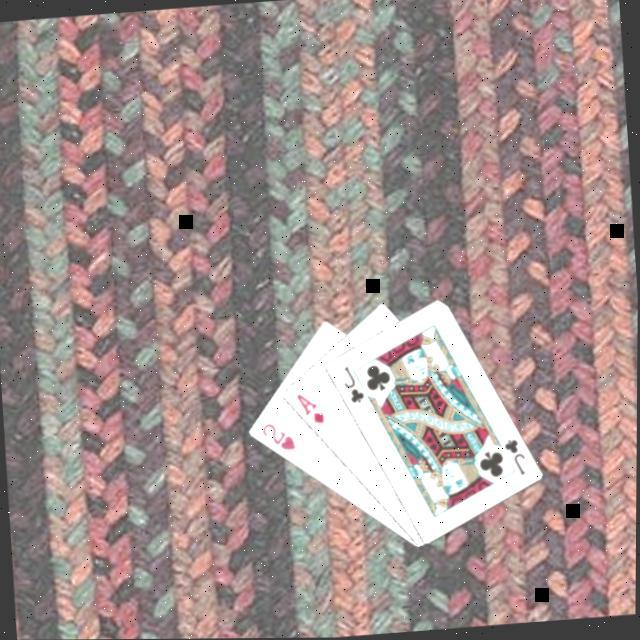2H: (261, 420, 301, 458)
AD: (294, 390, 330, 430)
JC: (340, 363, 370, 409), (502, 436, 532, 482)
